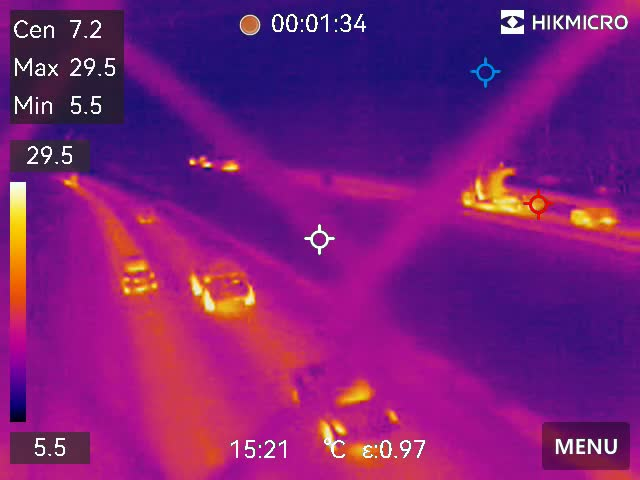heavyTruck: (458, 156, 619, 227)
